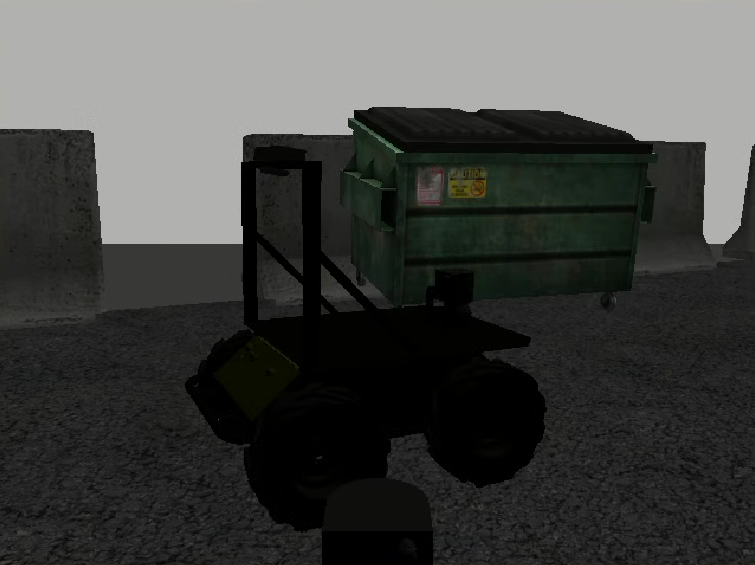husky: (184, 306, 548, 532)
